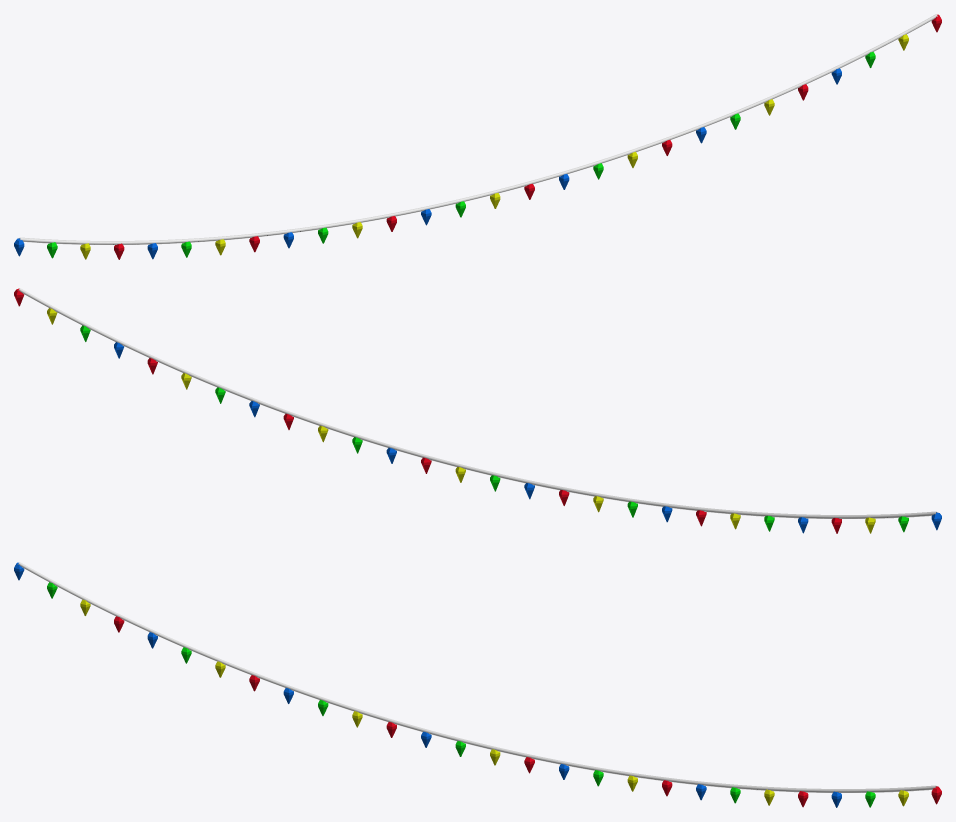
The model's file is mega lights.dae.
3 renders of one model, top to bottom at view 1: azimuth 30°, elevation 25°; view 2: azimuth 150°, elevation 25°; view 3: azimuth 330°, elevation 25°, orthographic.
Parts seen in each view (by area): view 1: NurbsCurve.001, NurbsCurve; view 2: NurbsCurve.001, NurbsCurve; view 3: NurbsCurve.001, NurbsCurve.
Part boxes in pixels (<box>): NurbsCurve.001: <box>19,14,937,244</box>; NurbsCurve: <box>14,14,941,259</box>; NurbsCurve.001: <box>18,288,937,518</box>; NurbsCurve: <box>14,288,941,533</box>; NurbsCurve.001: <box>18,562,936,792</box>; NurbsCurve: <box>14,562,941,807</box>.
Size of the model in its own units: 9.68 by 0.0905 by 0.8721.
